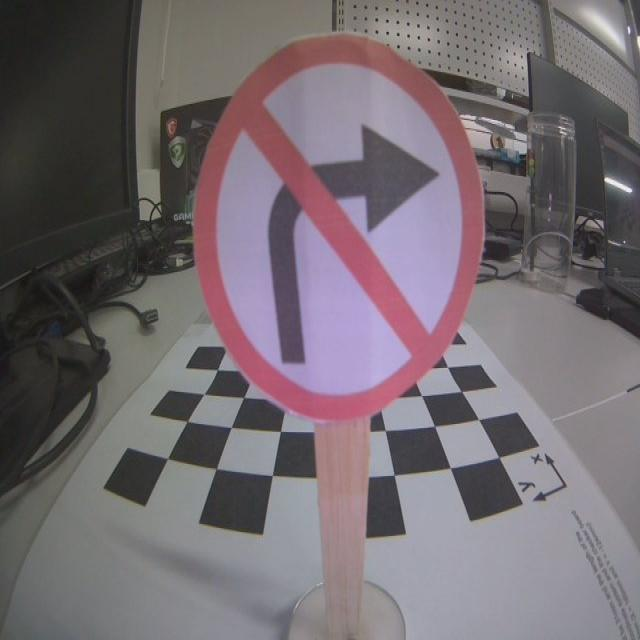Dilarang Belok Kanan: (193, 35, 482, 417)
